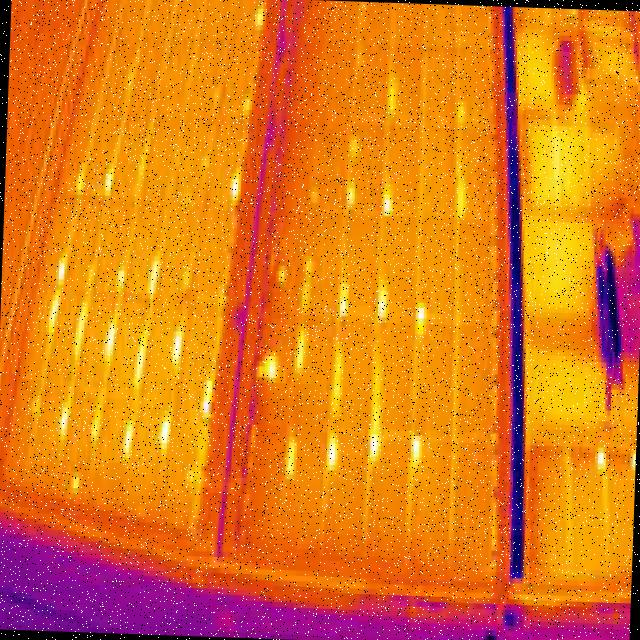Hotspot: (282, 430, 308, 484), (364, 409, 384, 479), (71, 306, 90, 370), (130, 329, 149, 388), (330, 352, 346, 422), (226, 152, 245, 210), (144, 250, 162, 304), (168, 330, 186, 384), (156, 411, 178, 454), (298, 256, 314, 314), (382, 66, 399, 120), (248, 2, 272, 40), (195, 374, 215, 418), (99, 323, 119, 366), (414, 296, 429, 351), (120, 414, 138, 458), (260, 356, 284, 388), (43, 294, 63, 332), (334, 288, 354, 322), (294, 324, 309, 368), (326, 427, 340, 470), (68, 167, 86, 200), (52, 406, 70, 439), (454, 176, 466, 223), (52, 258, 68, 290), (180, 262, 195, 294), (454, 95, 466, 134), (378, 183, 392, 216), (88, 419, 105, 446), (102, 168, 114, 206), (372, 290, 386, 322), (343, 177, 355, 214), (410, 424, 419, 468), (305, 186, 319, 213), (112, 265, 126, 292), (594, 444, 608, 471), (350, 129, 362, 156), (272, 270, 290, 287), (184, 464, 196, 486), (243, 94, 252, 120), (67, 477, 81, 493), (629, 448, 636, 474)
